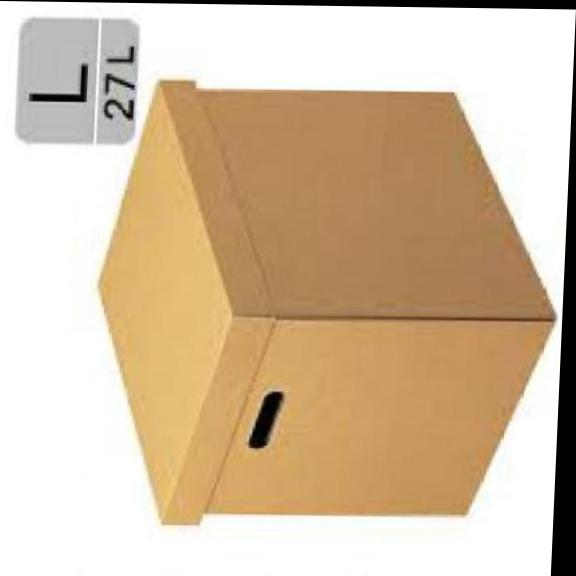Kertas: (99, 81, 553, 523)
